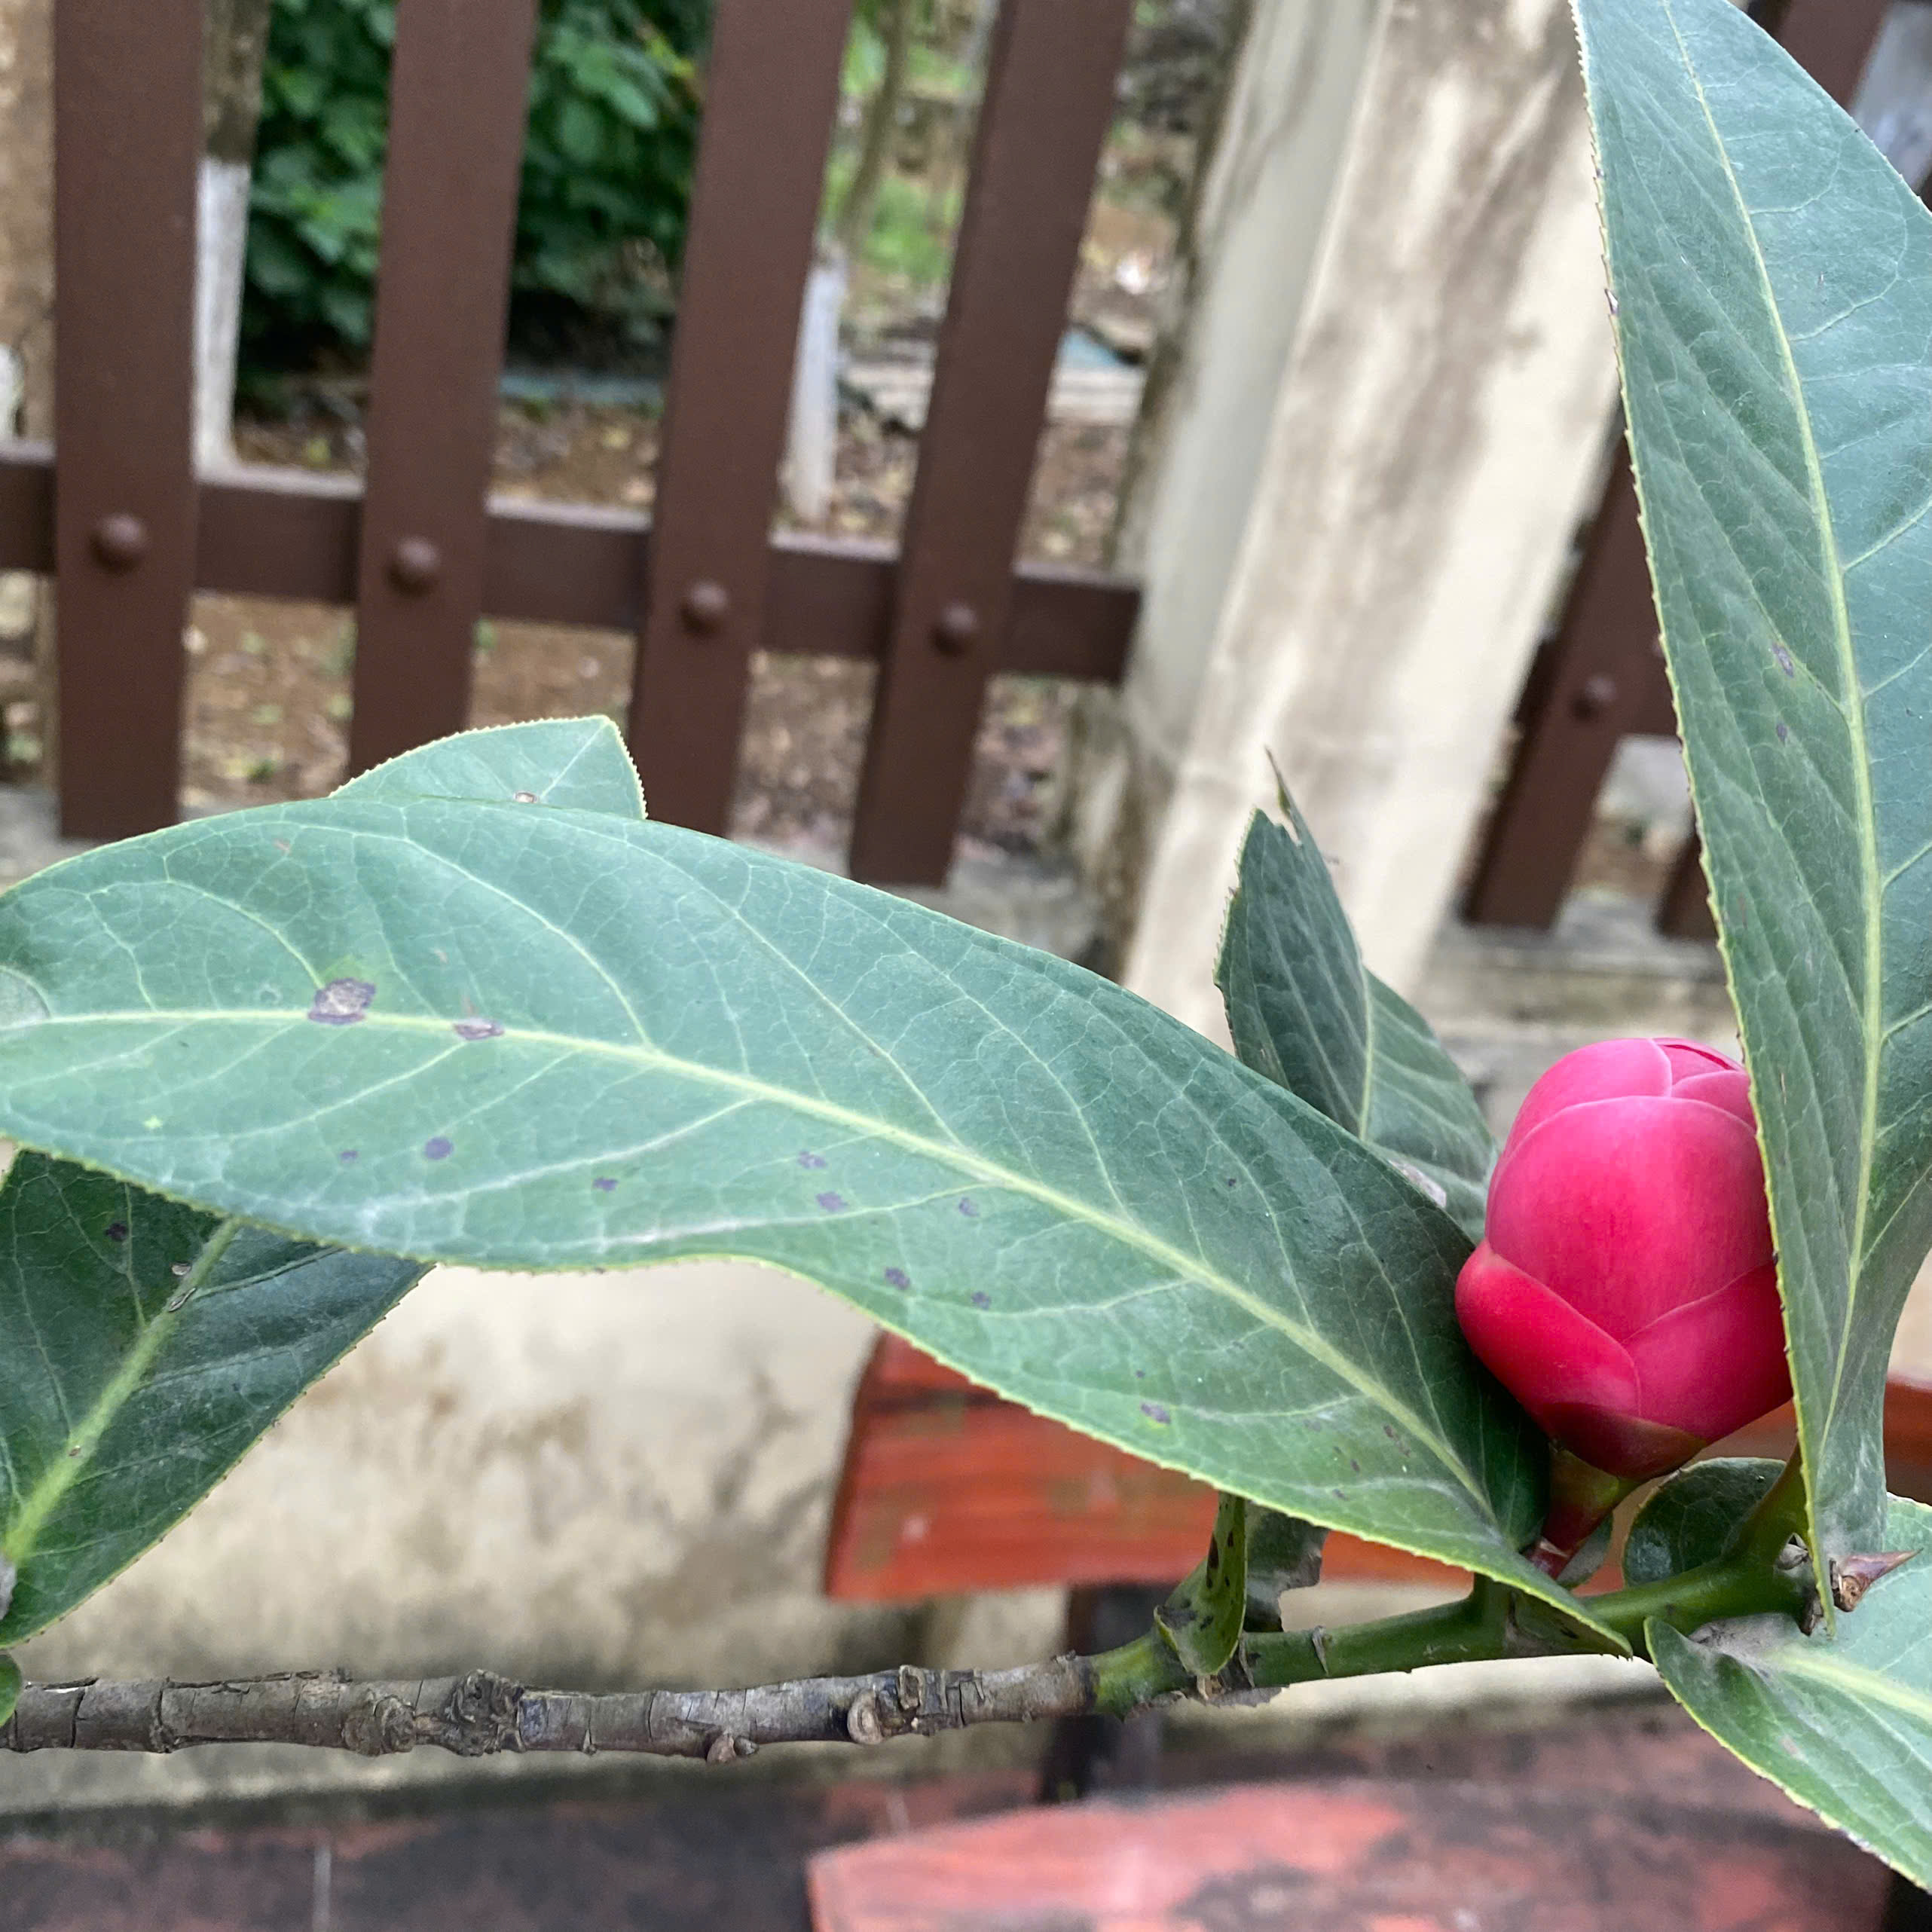hoa_hai_duong: (23, 623, 1932, 1895)
